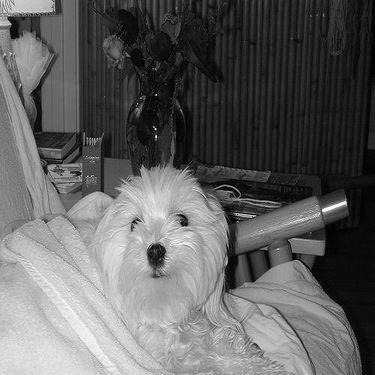dog: (65, 153, 299, 374)
